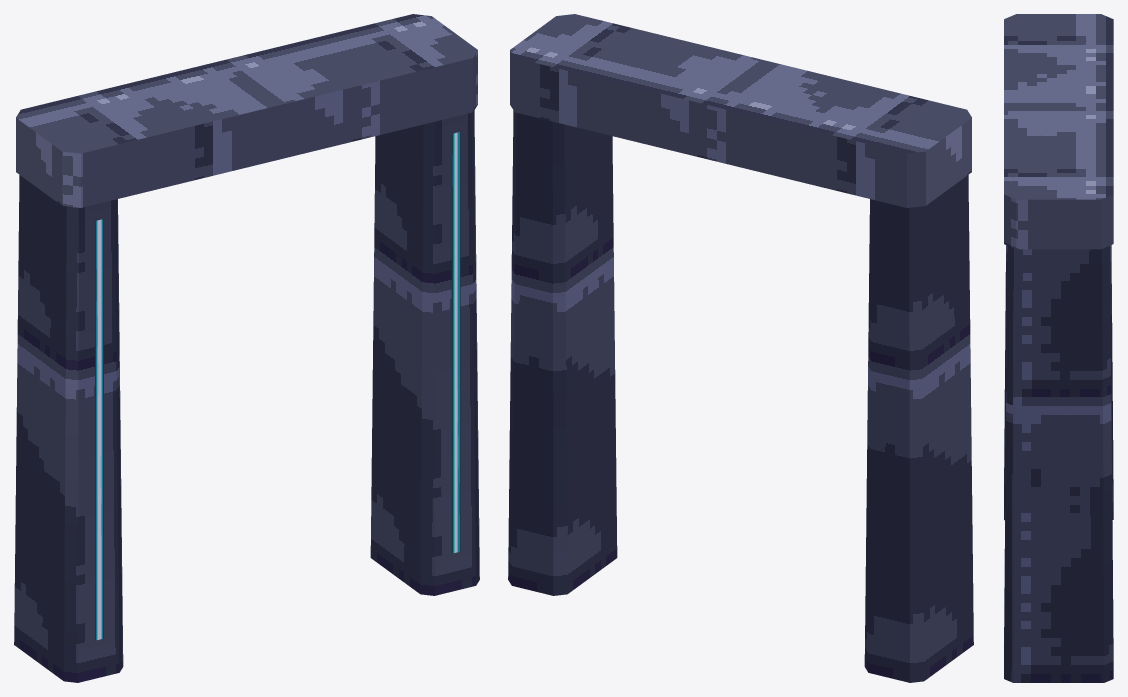
File: cyroom.portal.glb
3 views of the same model, side by side, from view 1: azimuth 30°, elevation 25°; view 2: azimuth 150°, elevation 25°; view 3: azimuth 270°, elevation 25° (orthographic). The views are drawn at different scales.
Visible parts, largest first — view 1: kit_frame, kit_card_light; view 2: kit_frame; view 3: kit_frame.
Boxes of the visible parts, x1,y1,x2,y2 form: kit_frame: [14, 14, 479, 682]; kit_card_light: [95, 132, 460, 640]; kit_frame: [508, 14, 973, 682]; kit_frame: [1004, 14, 1113, 682].
Bounding box in the file's own units: 2.8 × 3.4 × 0.71.
Materials: 3 (3 with a texture image).
